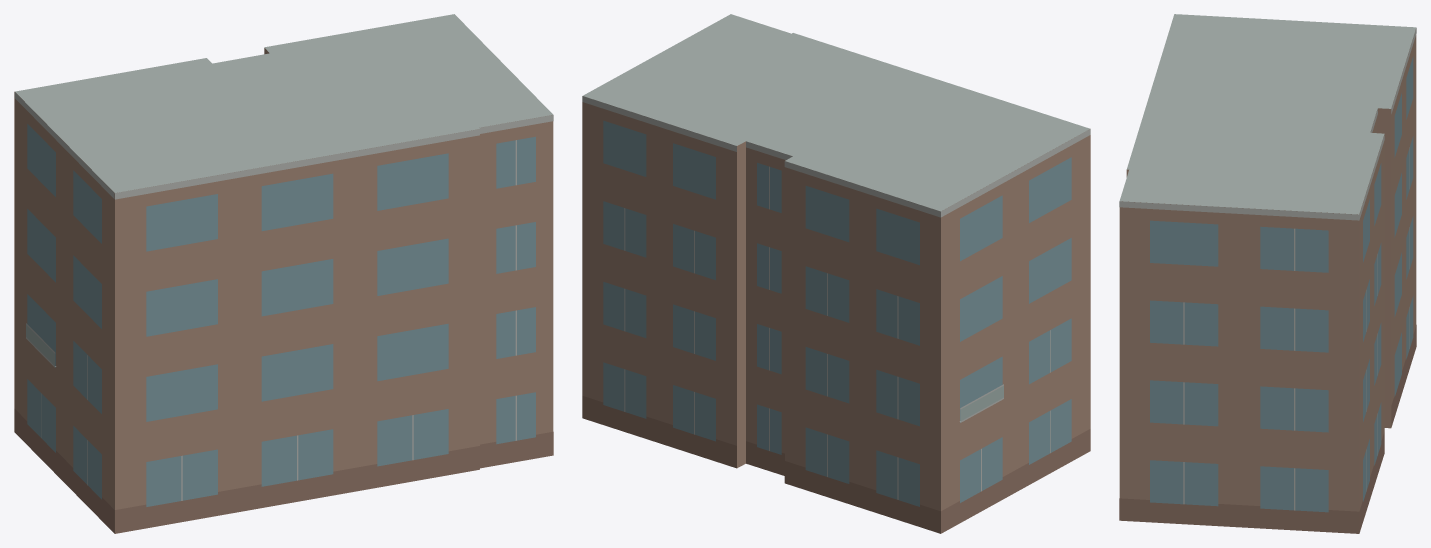
File: survey-upis-32658324.glb
3 renders of one model, left to right at view 1: azimuth 30°, elevation 25°; view 2: azimuth 150°, elevation 25°; view 3: azimuth 270°, elevation 25°, orthographic. The views are drawn at different scales.
Parts seen in each view (by area): view 1: survey-upis-32658324.tmp; view 2: survey-upis-32658324.tmp; view 3: survey-upis-32658324.tmp.
Part boxes in pixels (bbox=[...]): survey-upis-32658324.tmp: bbox=[14, 14, 553, 533]; survey-upis-32658324.tmp: bbox=[582, 14, 1090, 533]; survey-upis-32658324.tmp: bbox=[1119, 14, 1416, 533].
Size of the model in its own units: 17.38 by 12.9 by 10.88.
